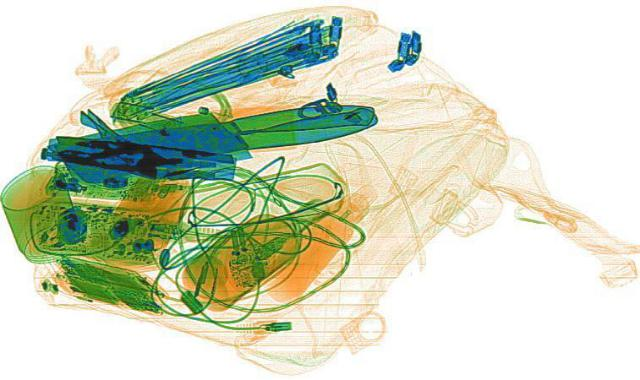Knife: (44, 82, 382, 183), (54, 91, 386, 184)
